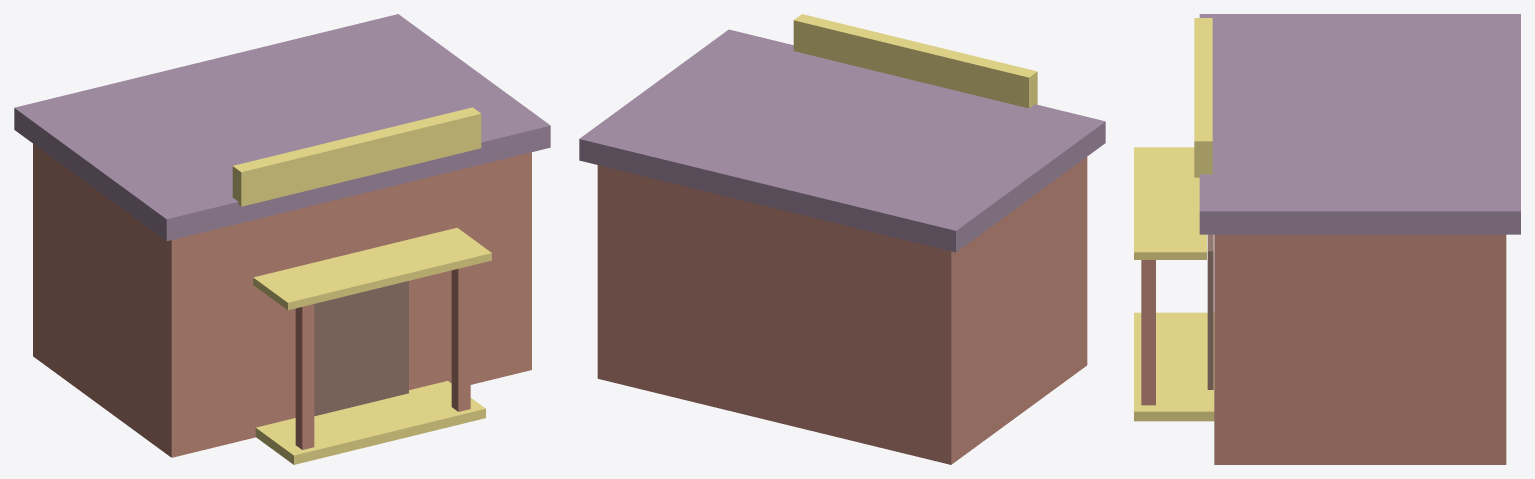
The picture shows the model from 3 angles, left to right: view 1: azimuth 30°, elevation 25°; view 2: azimuth 150°, elevation 25°; view 3: azimuth 270°, elevation 25°; orthographic projection. The views are drawn at different scales.
Parts seen in each view (by area): view 1: po_01_lo1; view 2: po_01_lo1; view 3: po_01_lo1.
Part boxes in pixels (bbox=[...]): po_01_lo1: bbox=[14, 14, 550, 464]; po_01_lo1: bbox=[579, 14, 1105, 464]; po_01_lo1: bbox=[1134, 14, 1520, 464].
Size of the model in its own units: 6.4 by 4.43 by 5.3.
